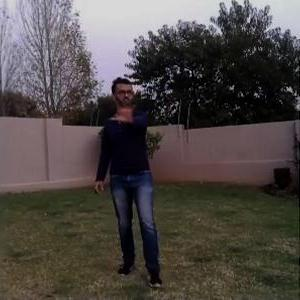follow_hand: (107, 84, 137, 125)
